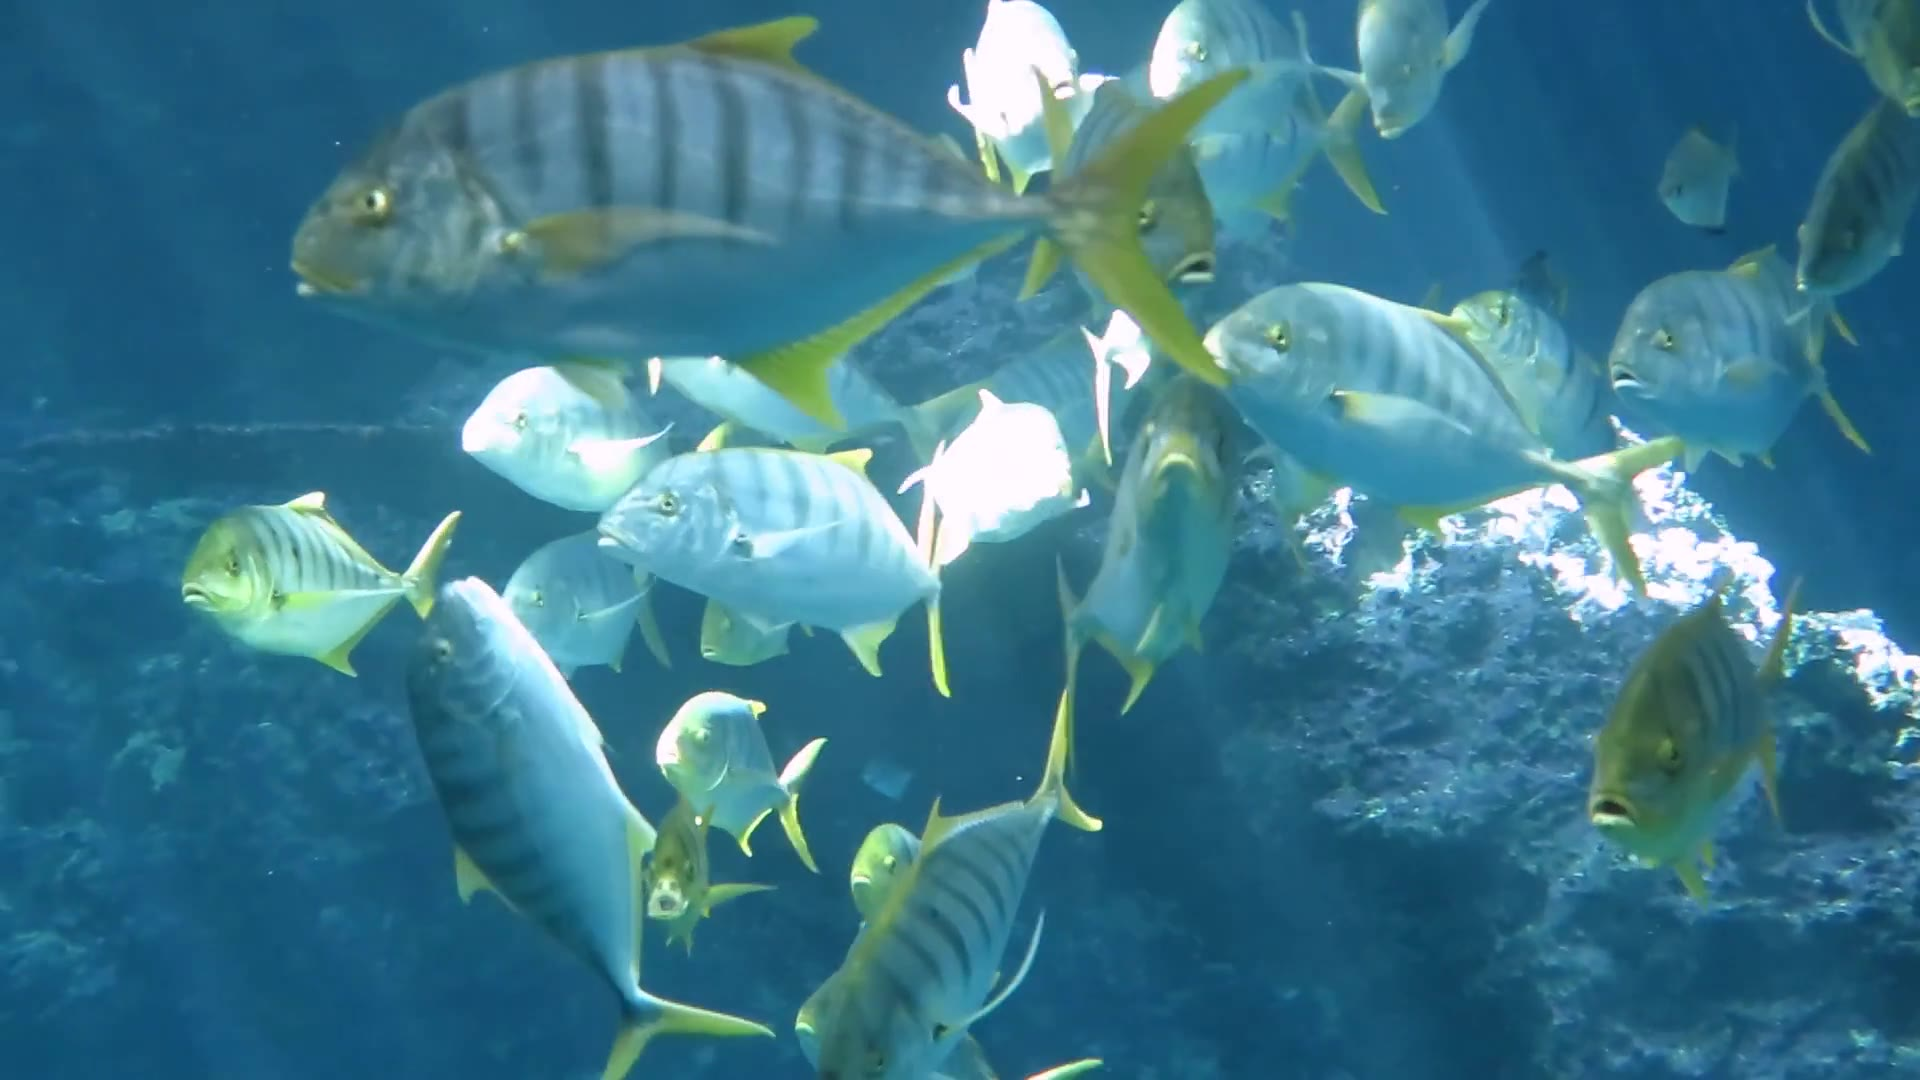Gnathanodon speciosus: (255, 29, 1141, 359), (410, 589, 680, 1068), (1207, 272, 1627, 537), (840, 742, 1092, 1073), (1567, 572, 1800, 887), (595, 434, 943, 600), (1593, 233, 1837, 469), (175, 483, 442, 669)
